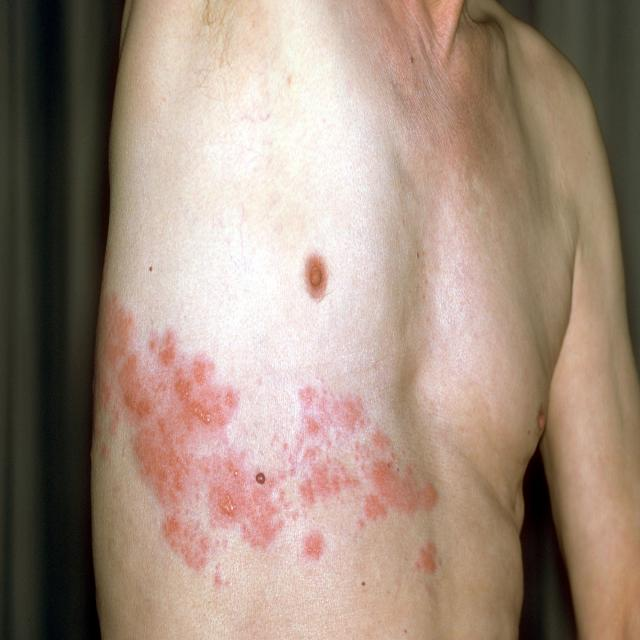herpes zoster: (90, 266, 450, 601)
